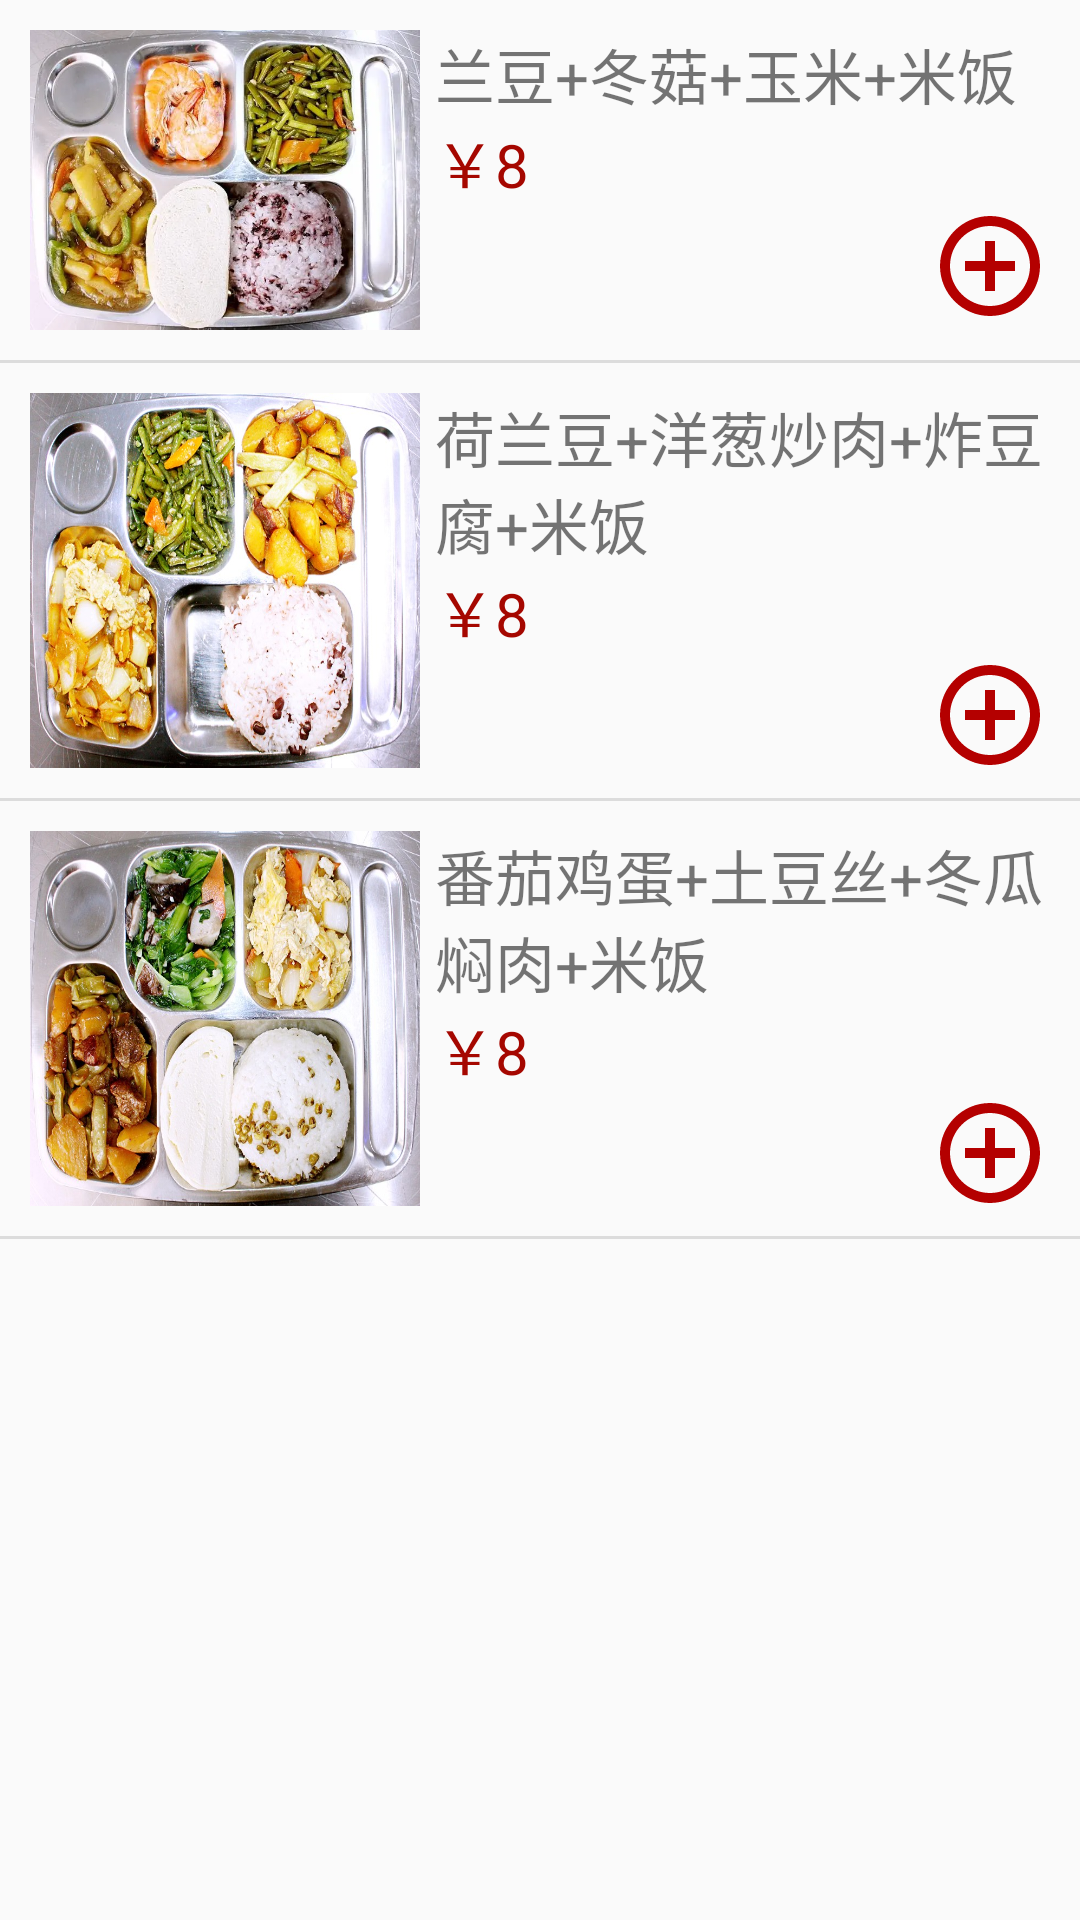

Icons on this 1080×1920 Android screen, each with its box as (x1, y1, x2, y2):
add circle: (940, 216, 1040, 316), (940, 665, 1040, 765), (940, 1103, 1040, 1203)
